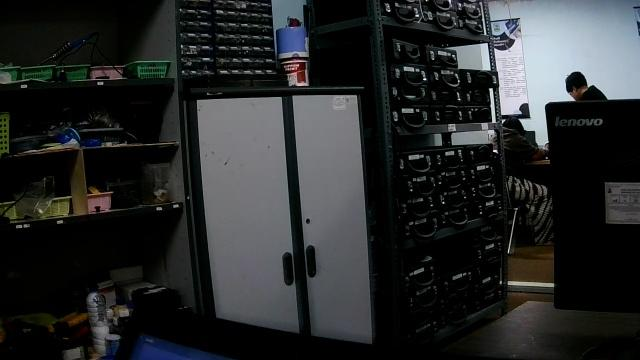Lemari: (183, 85, 378, 346)
